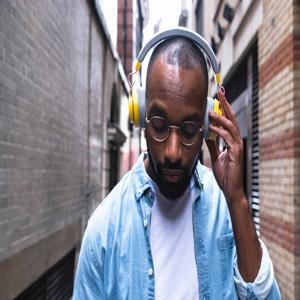Headphones: (124, 28, 225, 140)
